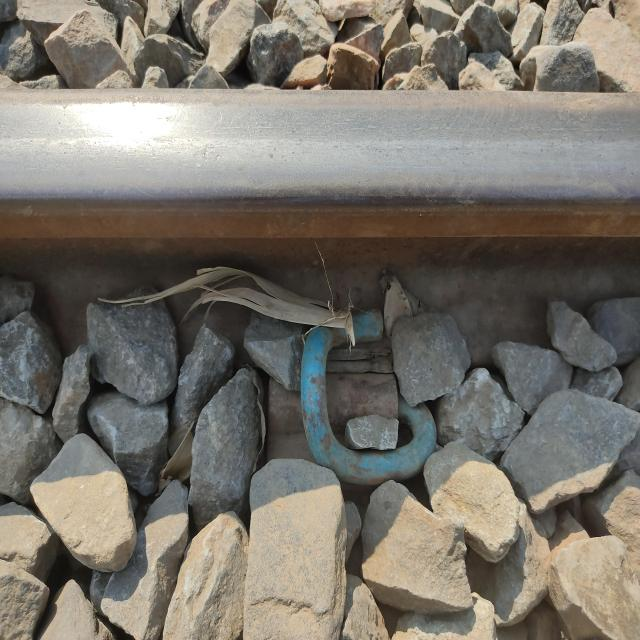squats_high: (203, 146, 221, 164)
